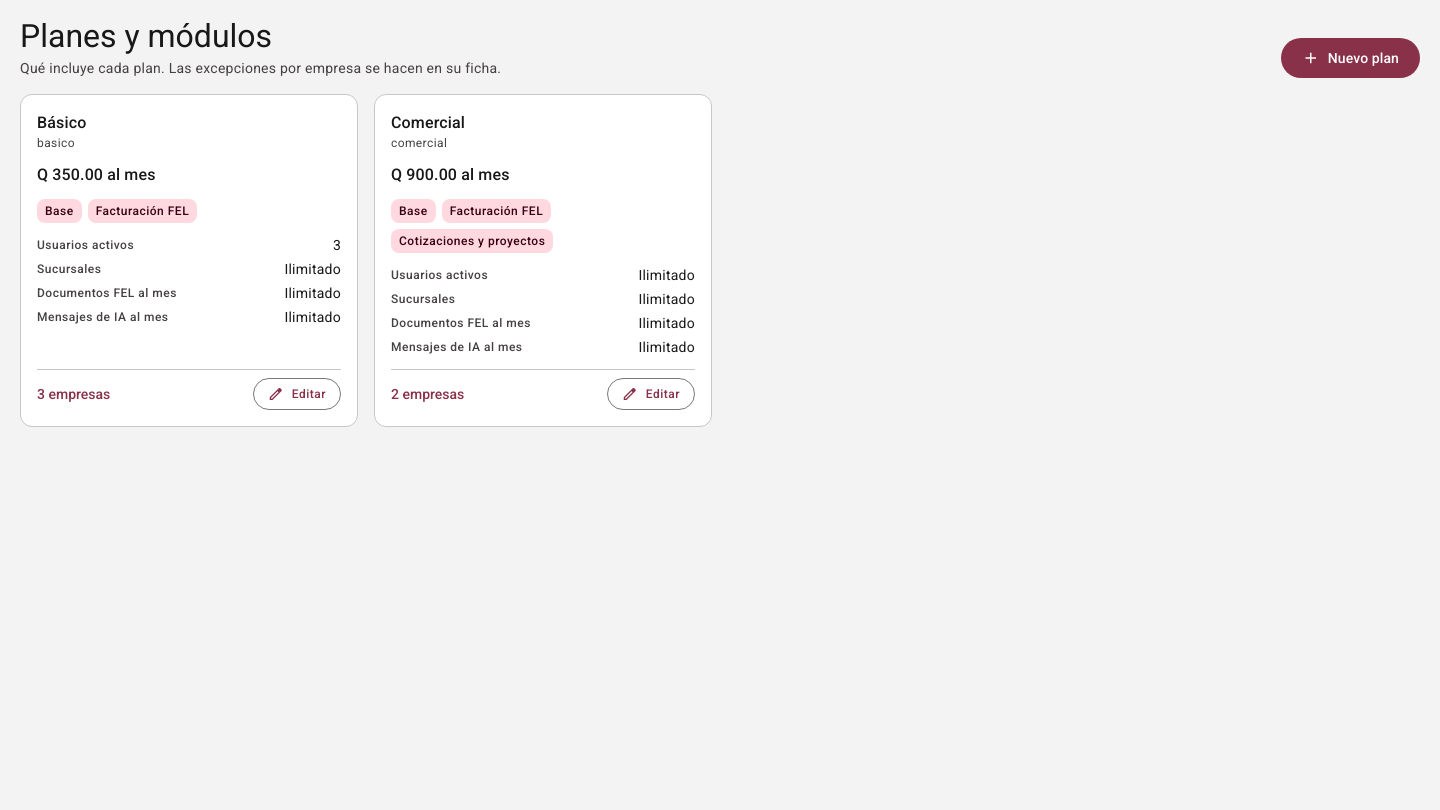
it: Planes y módulos › crea un plan con base siempre incluida
Expected: the heading "Básico" is shown, 37,111 -> 86,135
Click the button "Nuevo plan". click: [1350, 58]
box: 1281,38 -> 1420,78
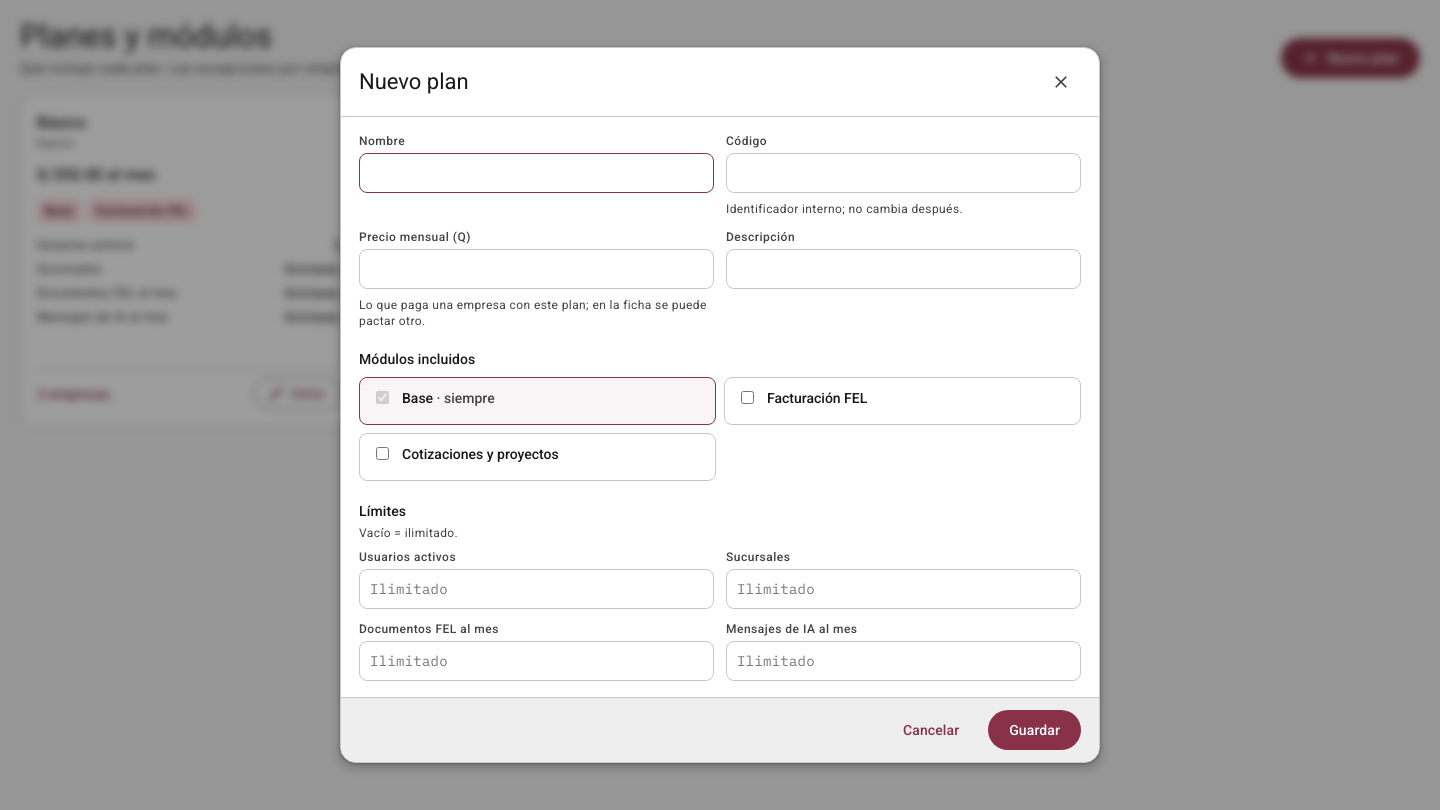
Type "Solo FEL" into the field labelled "Nombre". click: [536, 173]
box: 359,153 -> 714,193
Type "solo_fel" into the field labelled "Código". click: [904, 173]
box: 726,153 -> 1081,193
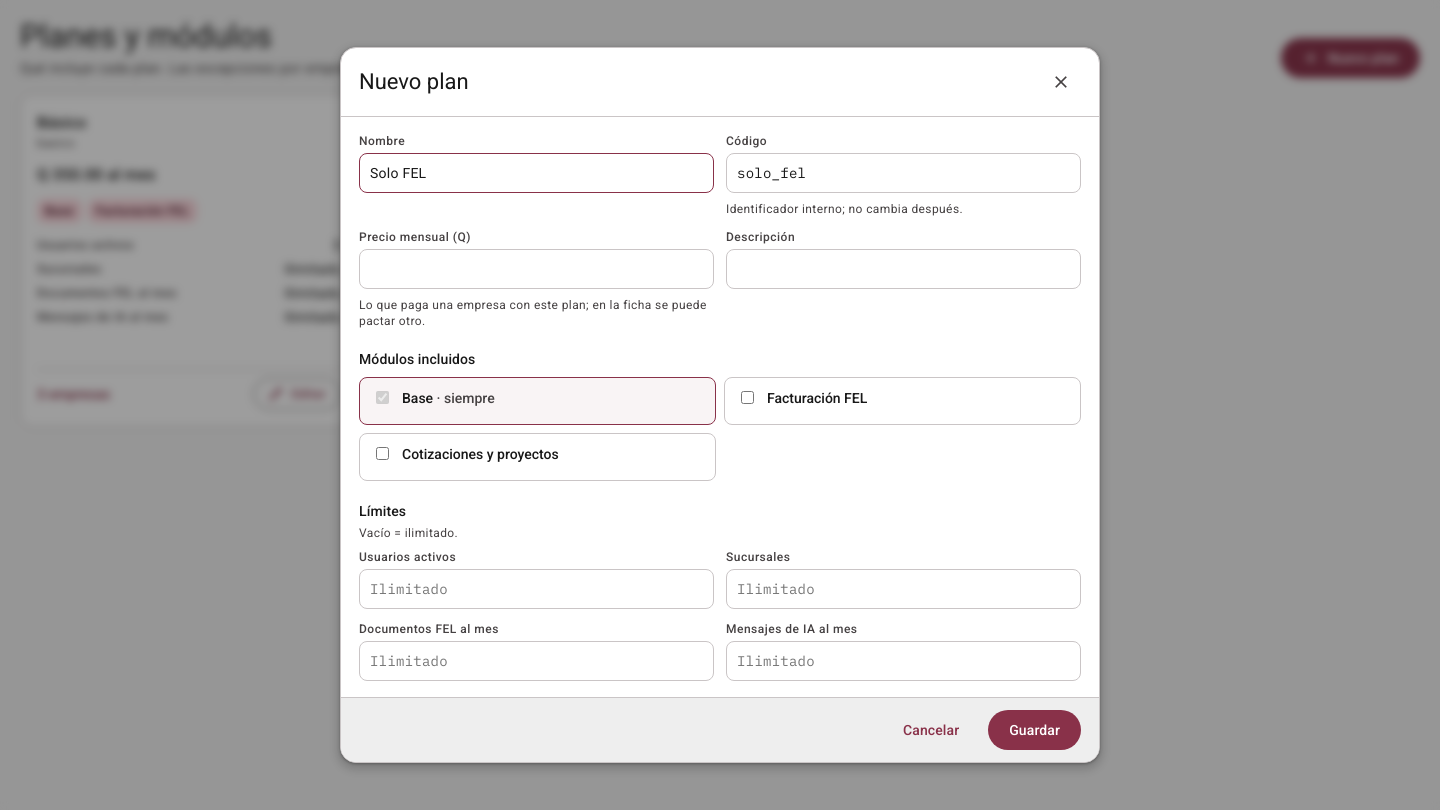
Type "199.50" into the field labelled "Precio mensual (Q)". click: [536, 269]
box: 359,249 -> 714,289
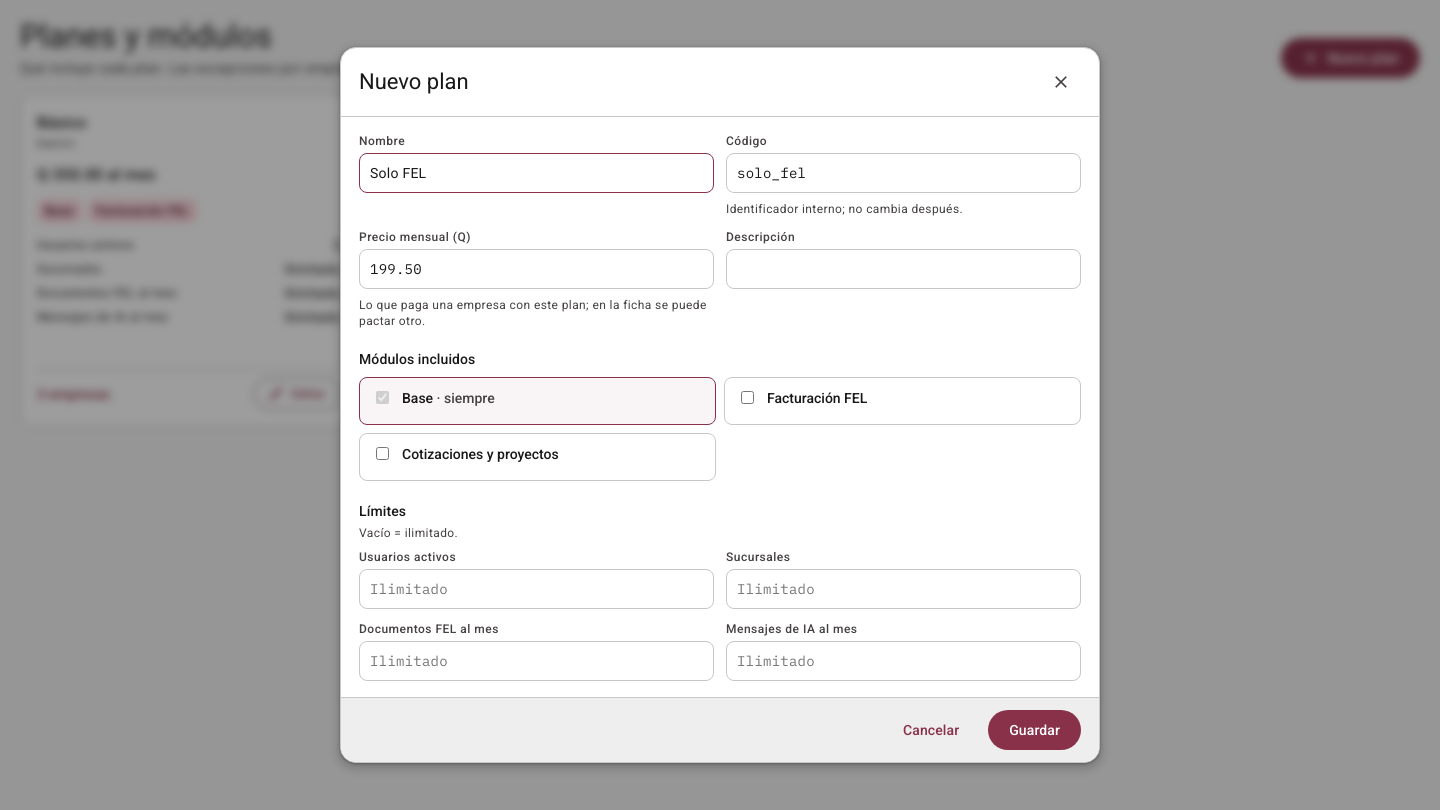
Now the checkbox labelled "Base · siempre" is disabled, box 376,391 -> 389,404
Click the checkbox labelled "Facturación FEL". click: [748, 398]
box: 741,391 -> 754,404
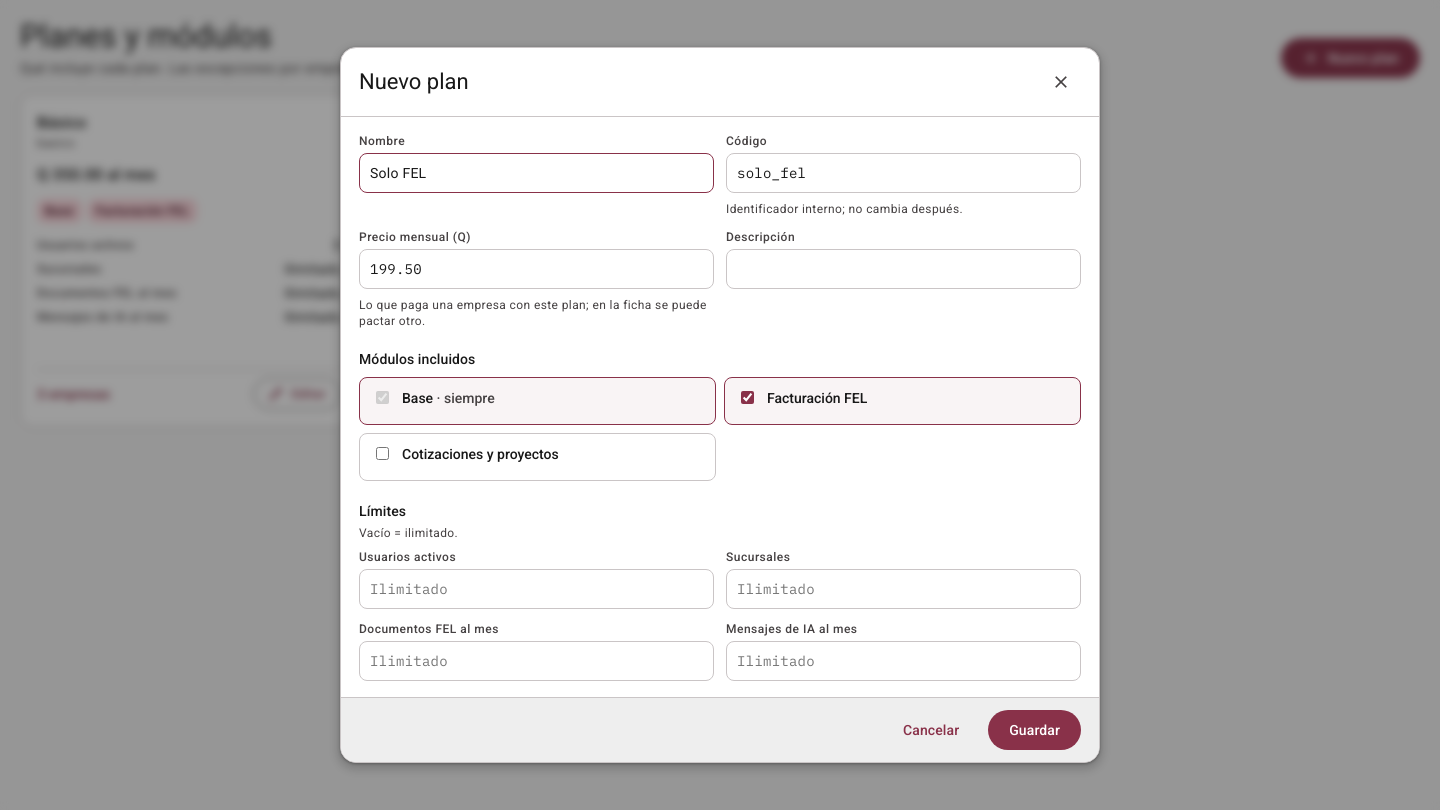
Type "2" into the field labelled "Usuarios activos". click: [536, 589]
box: 359,569 -> 714,609
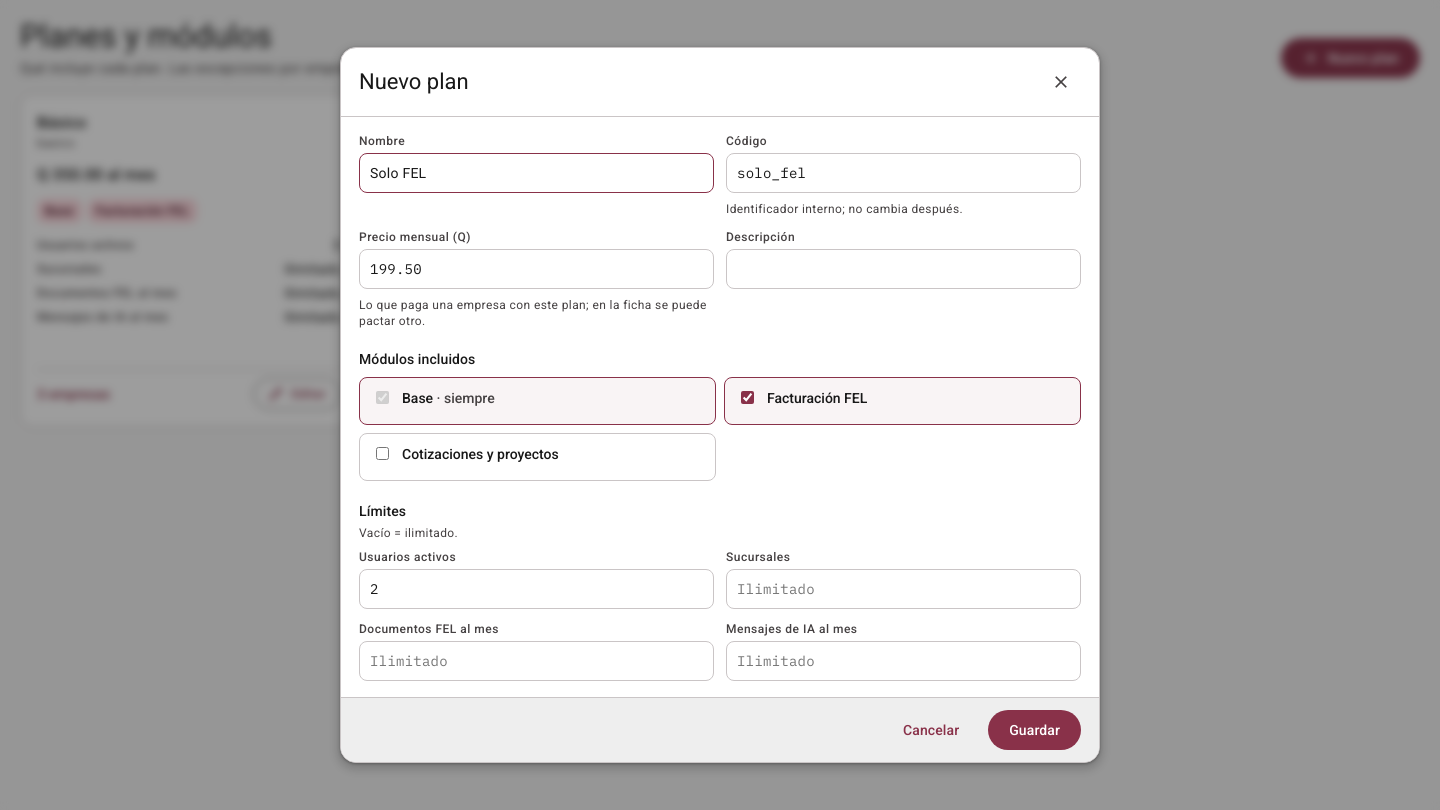
Click the button "Guardar". click: [1035, 730]
box: 988,710 -> 1081,750
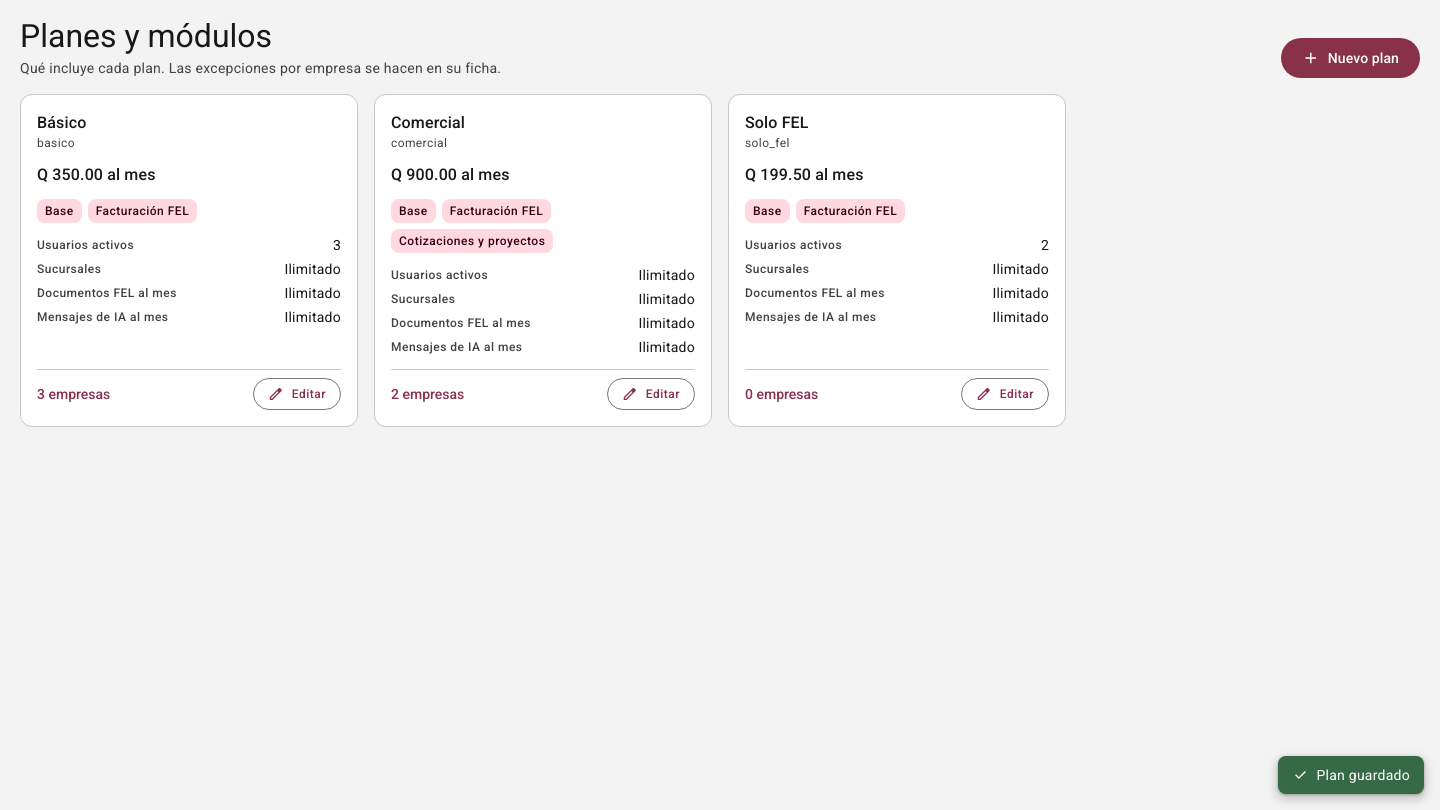
Now the text "Base" below "Q 199.50 al mes" is shown, box 753,204 -> 782,218
Now the text "Facturación FEL" below "Q 199.50 al mes" is shown, box 804,204 -> 897,218
Now the button "0 empresas" is shown, box 745,384 -> 818,404
